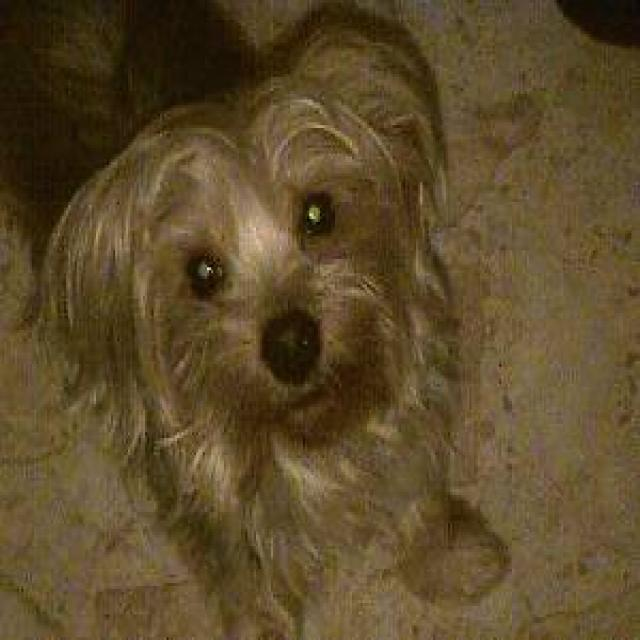dog-yorkshire_terrier: (2, 3, 508, 634)
